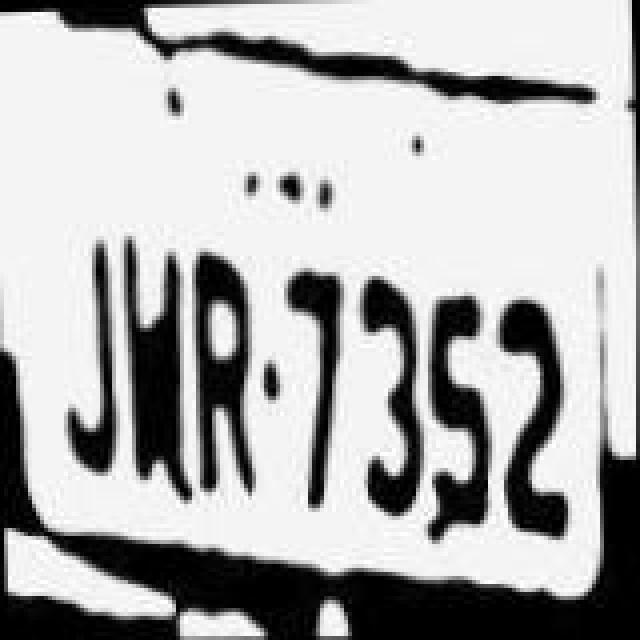2: (492, 288, 576, 552)
3: (354, 272, 430, 520)
5: (420, 282, 496, 538)
7: (280, 252, 352, 528)
J: (38, 218, 130, 494)
R: (188, 224, 268, 492)
W: (126, 222, 194, 494)
